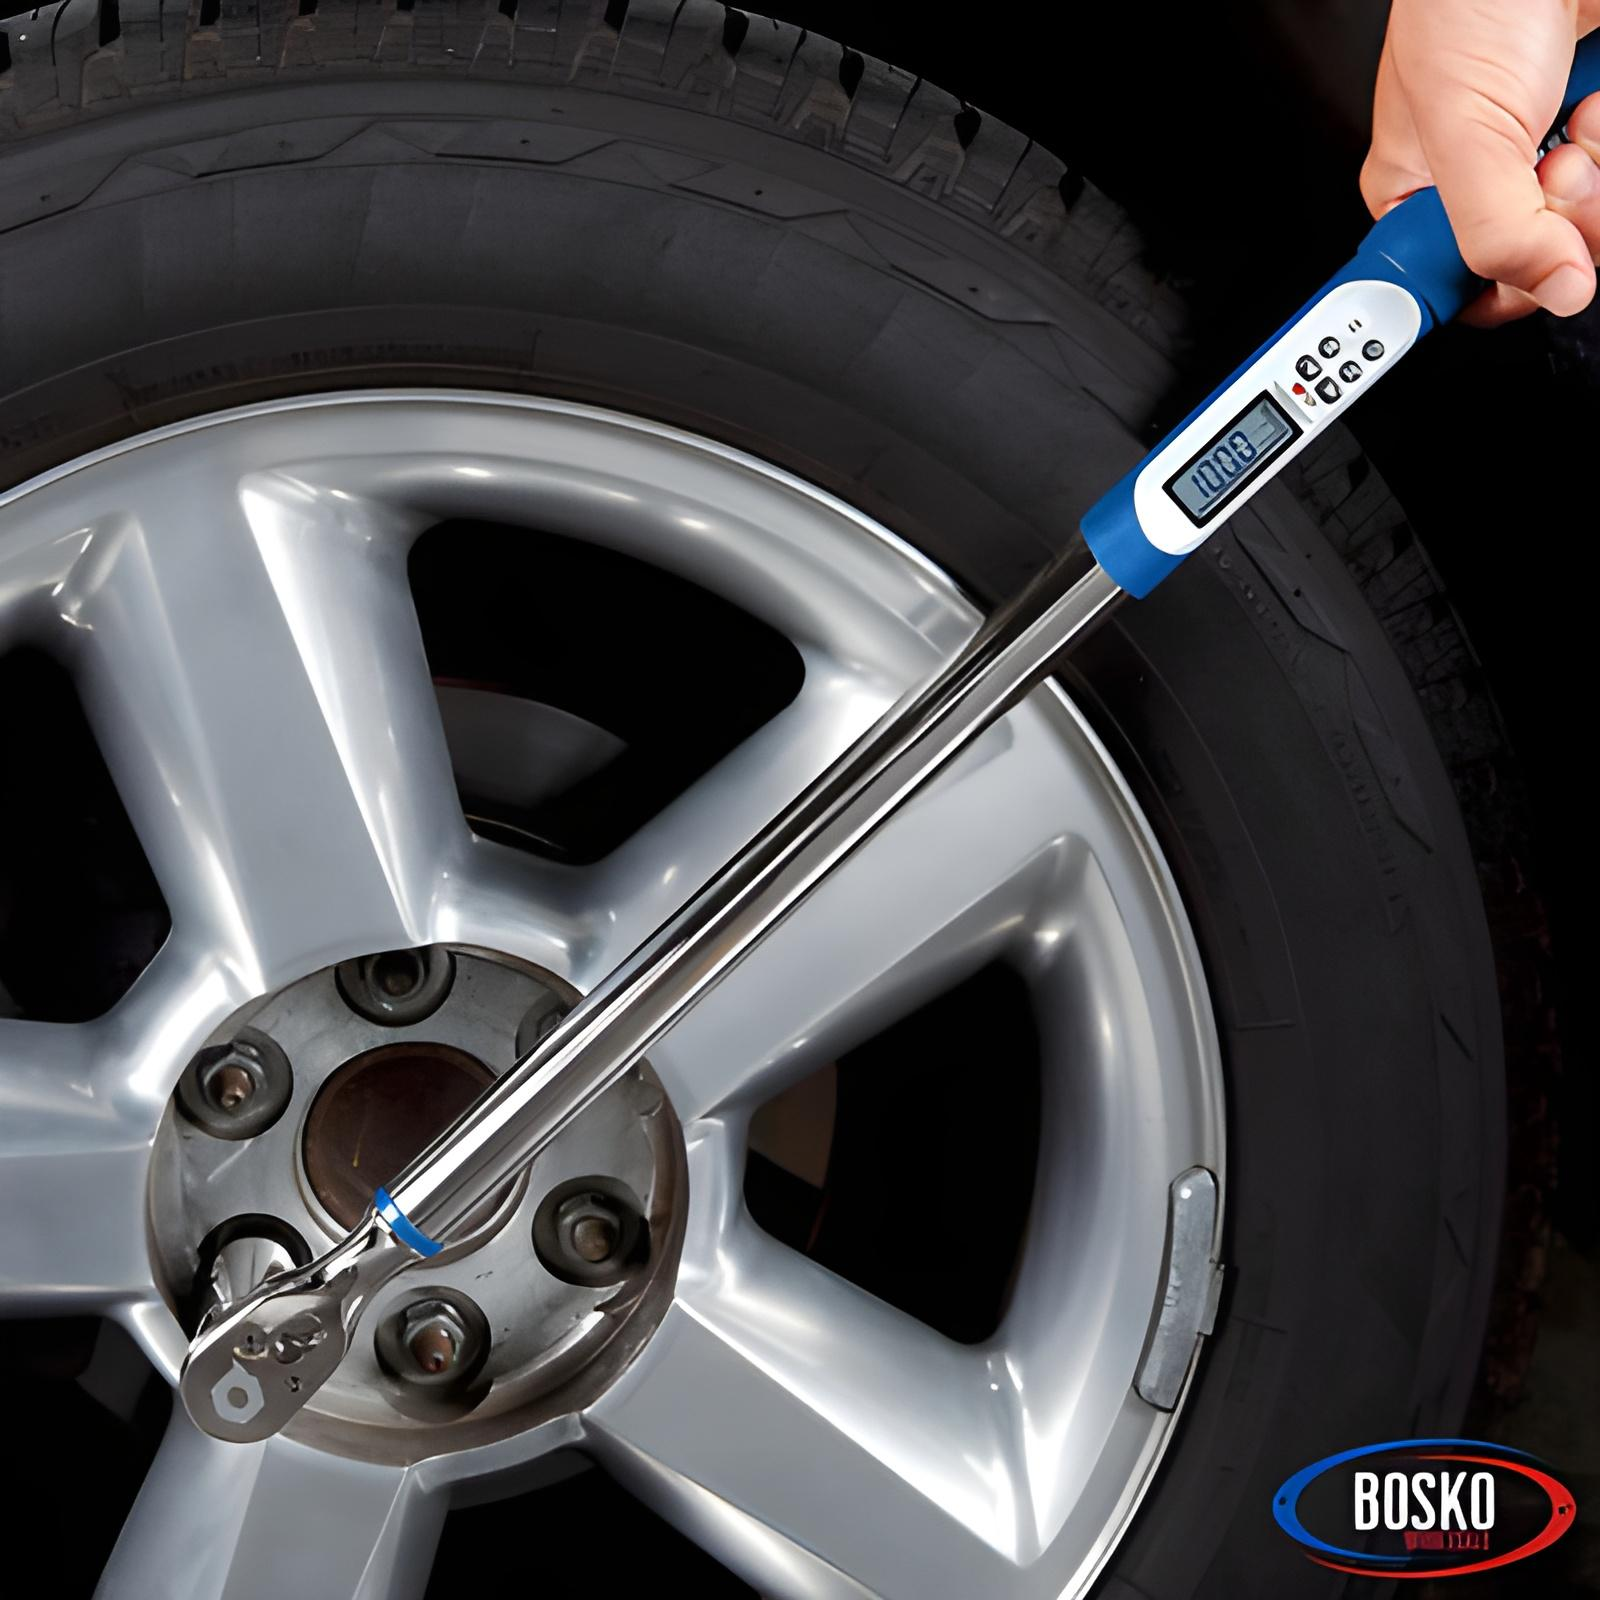Tool: (177, 1258, 370, 1458)
